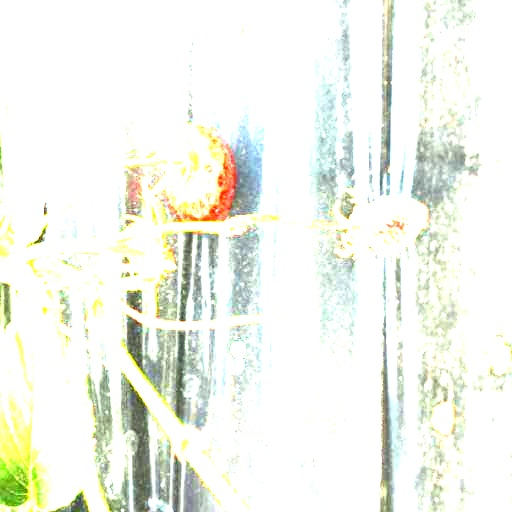Gray Mold: (333, 189, 430, 260)
